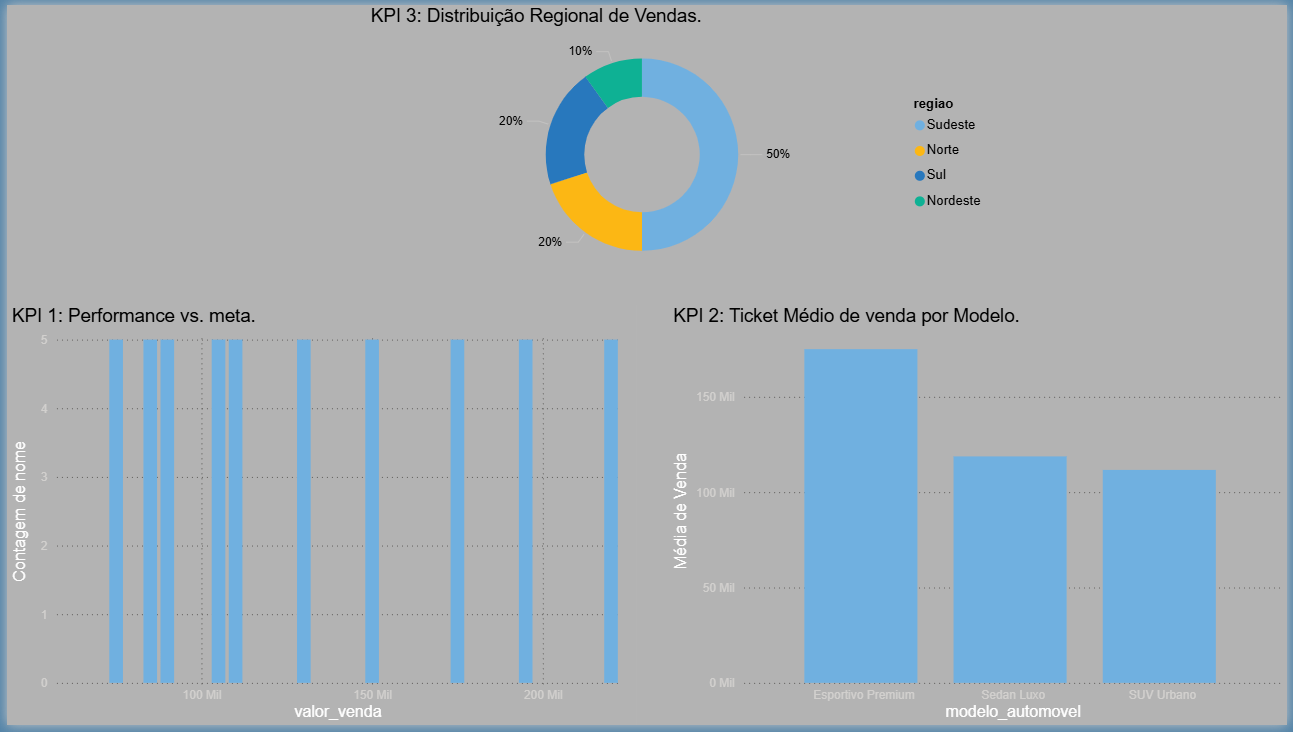

The dashboard page shown, as its layout file describes it:
{"tool":"powerbi","page":{"name":"Página 1","canvas":[1280,720],"ordinal":0},"visuals":[{"type":"columnChart","title":"KPI 1: Performance vs. meta.","fields":{"Y":["CountNonNull(public vendedores.nome)"],"Category":["public vendas.valor_venda"]},"box":[0,299.6,629.8,420.7],"z":0},{"type":"lineClusteredColumnComboChart","title":"KPI 2: Ticket Médio de venda por Modelo.","fields":{"Category":["public vendas.modelo_automovel"],"Y":["public vendas.Média de Venda"]},"box":[661.6,299.6,618.8,420.7],"z":1000},{"type":"donutChart","title":"KPI 3: Distribuição Regional de Vendas.","fields":{"Category":["public vendedores.regiao"],"Y":["CountNonNull(public vendas.id_venda)","select"]},"box":[358.3,0,629.8,278.8],"z":2000}]}

Visuals, with their boxes in screenshot pixels (x1, y1, x2, y2), scaled from the page's 1280x720 canvas onto the 1293x732 screenshot:
"KPI 1: Performance vs. meta." columnChart: (0,305,636,731)
"KPI 2: Ticket Médio de venda por Modelo." lineClusteredColumnComboChart: (668,305,1292,731)
"KPI 3: Distribuição Regional de Vendas." donutChart: (362,0,998,283)
